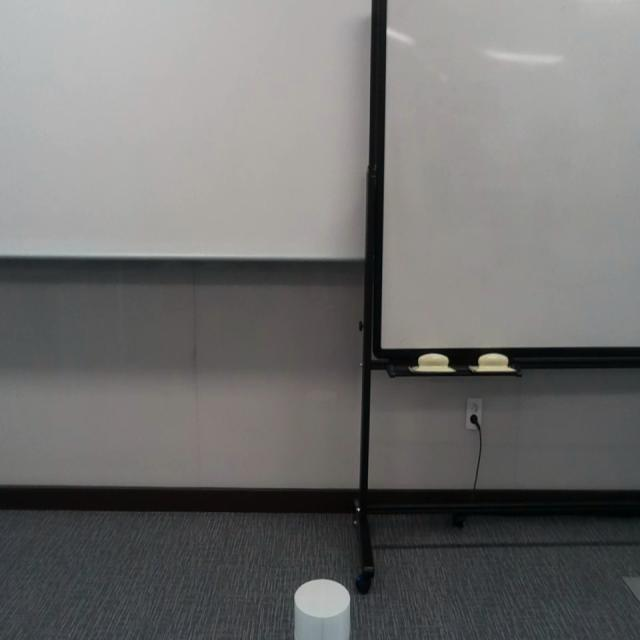cylinder: (294, 578, 351, 640)
